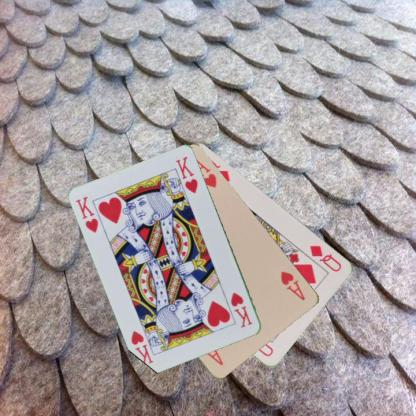Ah: (278, 268, 307, 302)
Kh: (73, 193, 100, 234), (228, 289, 254, 330)
Qd: (308, 242, 344, 273)
